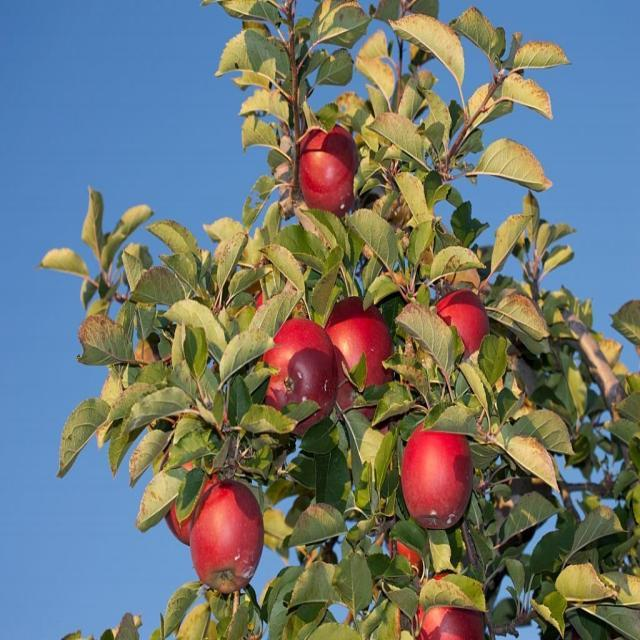Red Apple: (398, 417, 477, 528), (322, 298, 399, 410), (192, 487, 267, 594), (260, 319, 336, 418), (168, 436, 235, 542), (302, 128, 364, 212), (418, 576, 480, 640), (434, 292, 489, 362), (390, 527, 430, 569), (246, 285, 268, 311)
